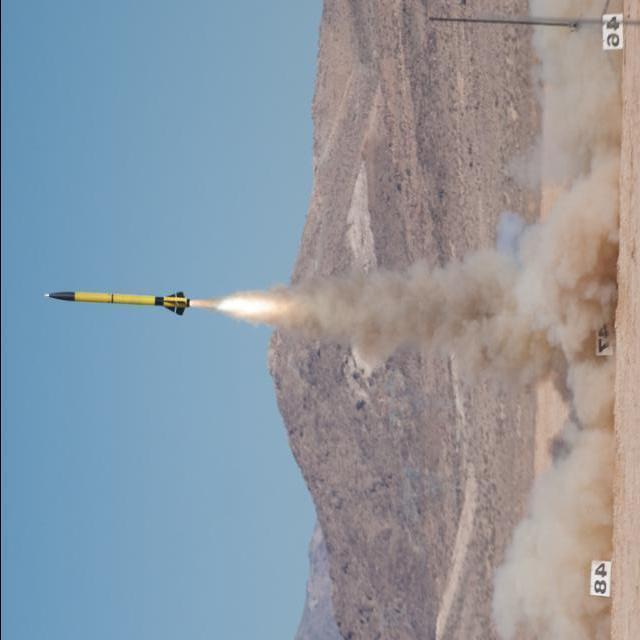missile: (50, 283, 193, 326)
